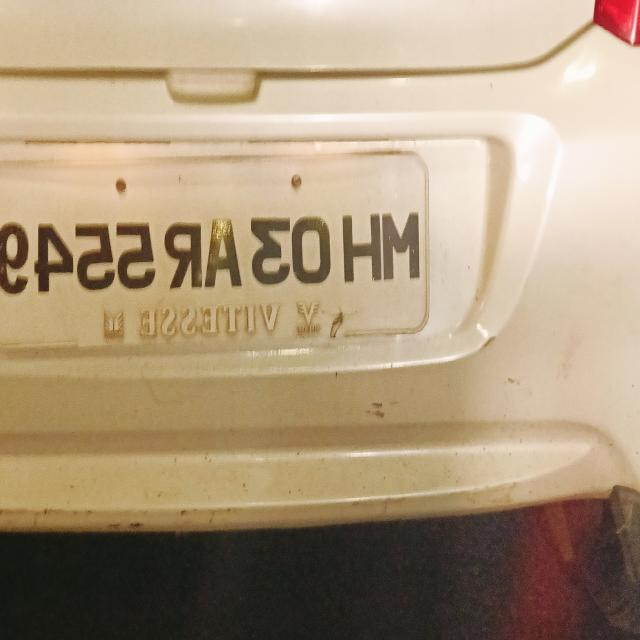license_plate: (0, 139, 434, 358)
